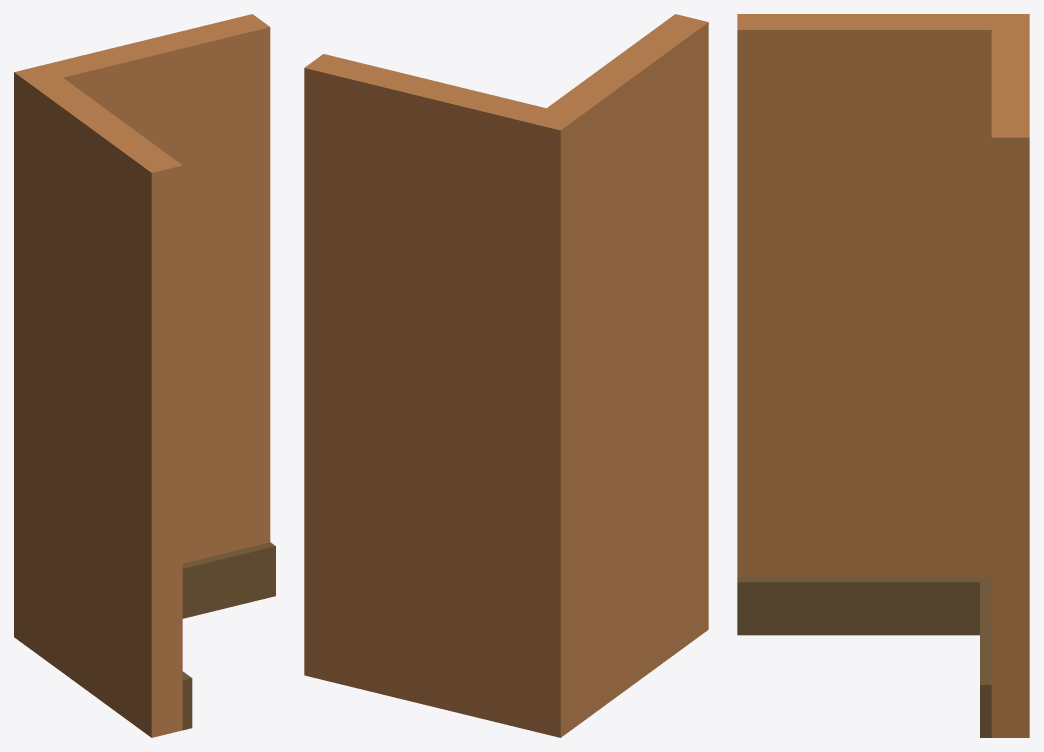
File: C_Wall_Corner.fbx
The picture shows the model from 3 angles, left to right: view 1: azimuth 30°, elevation 25°; view 2: azimuth 150°, elevation 25°; view 3: azimuth 270°, elevation 25°; orthographic projection. The views are drawn at different scales.
Visible parts, largest first — view 1: C_Wall_Corner; view 2: C_Wall_Corner; view 3: C_Wall_Corner.
Part boxes in pixels (x1,y1,x2,y2): C_Wall_Corner: [14, 14, 275, 737]; C_Wall_Corner: [304, 14, 708, 737]; C_Wall_Corner: [737, 14, 1029, 737].
Size of the model in its own units: 1000 by 1000 by 2264.
